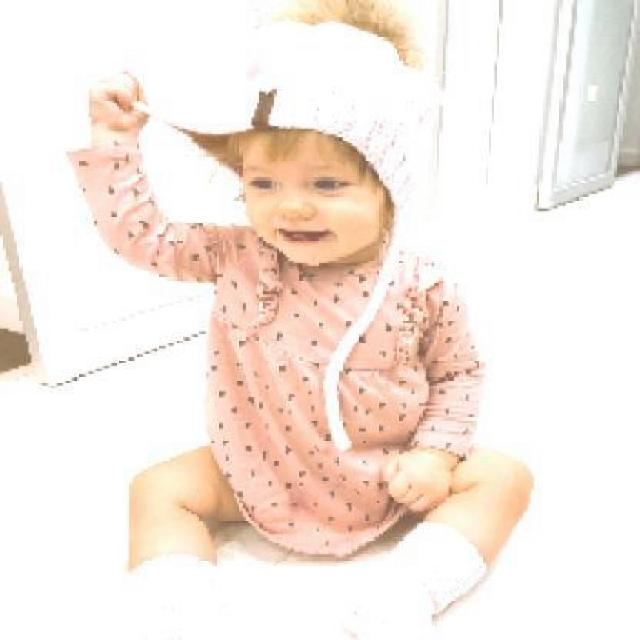child: (60, 0, 537, 637)
